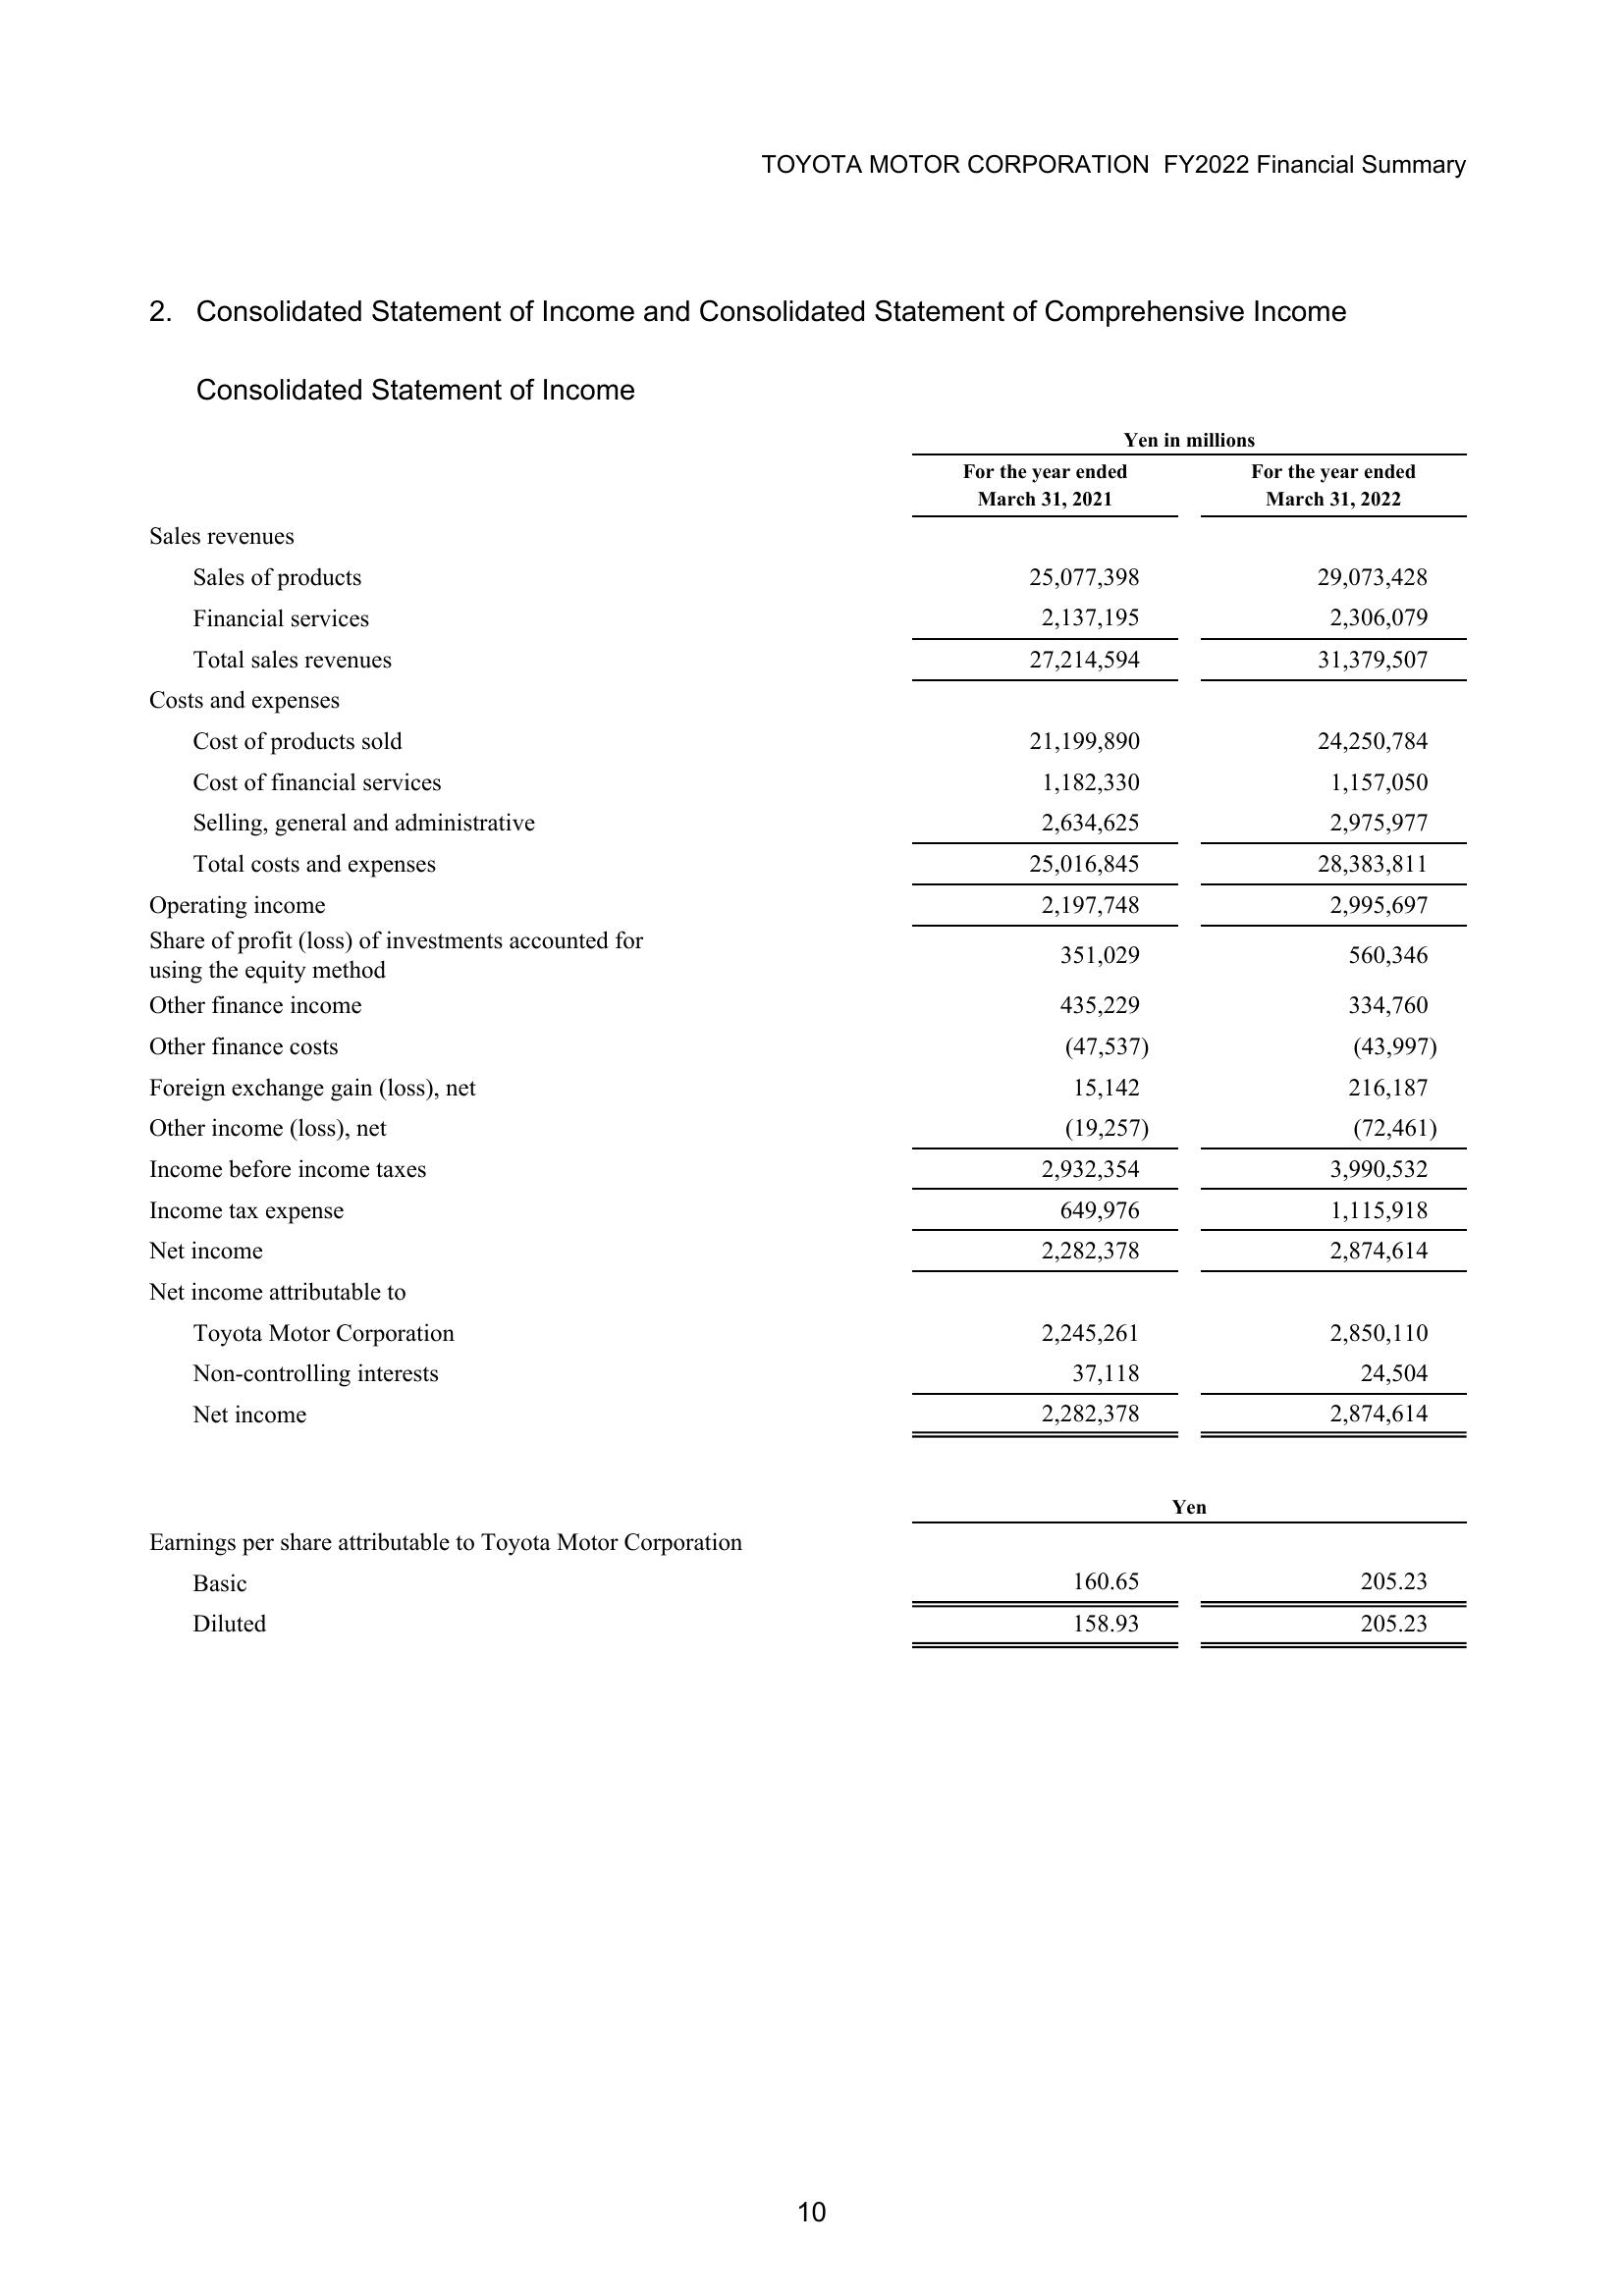Footer: (0, 2143, 1624, 2296)
Header: (0, 0, 1624, 188)
Table: (77, 411, 1483, 1697)
